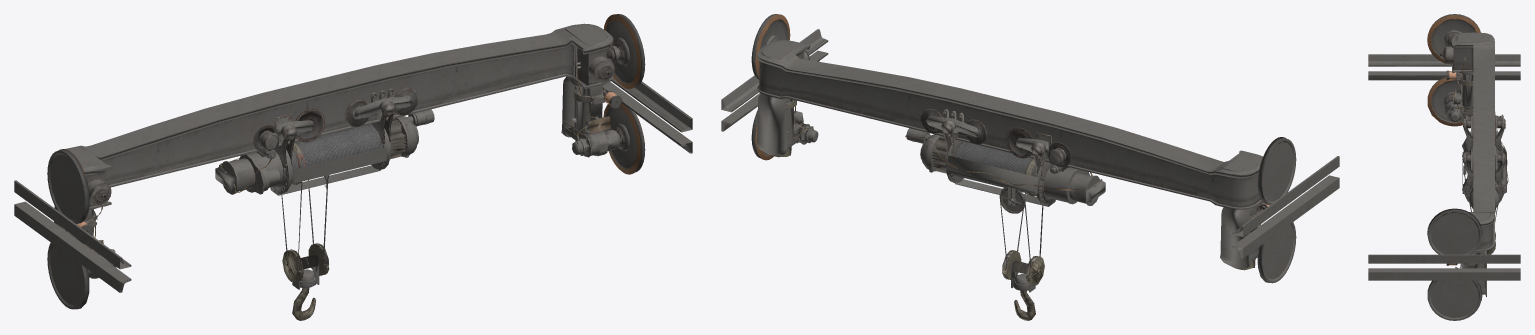
Rendered from crane-overhead.6145d6ff.glb.
3 views of the same model, side by side, from view 1: azimuth 30°, elevation 25°; view 2: azimuth 150°, elevation 25°; view 3: azimuth 270°, elevation 25° (orthographic). The views are drawn at different scales.
Parts seen in each view (by area): view 1: model; view 2: model; view 3: model.
Part boxes in pixels (box(x1,y1,x2,y2)): model: box(14, 14, 692, 320); model: box(721, 14, 1339, 320); model: box(1368, 14, 1520, 320).
Size of the model in its own units: 12.49 by 5.12 by 4.
2 materials, 2 textured.
